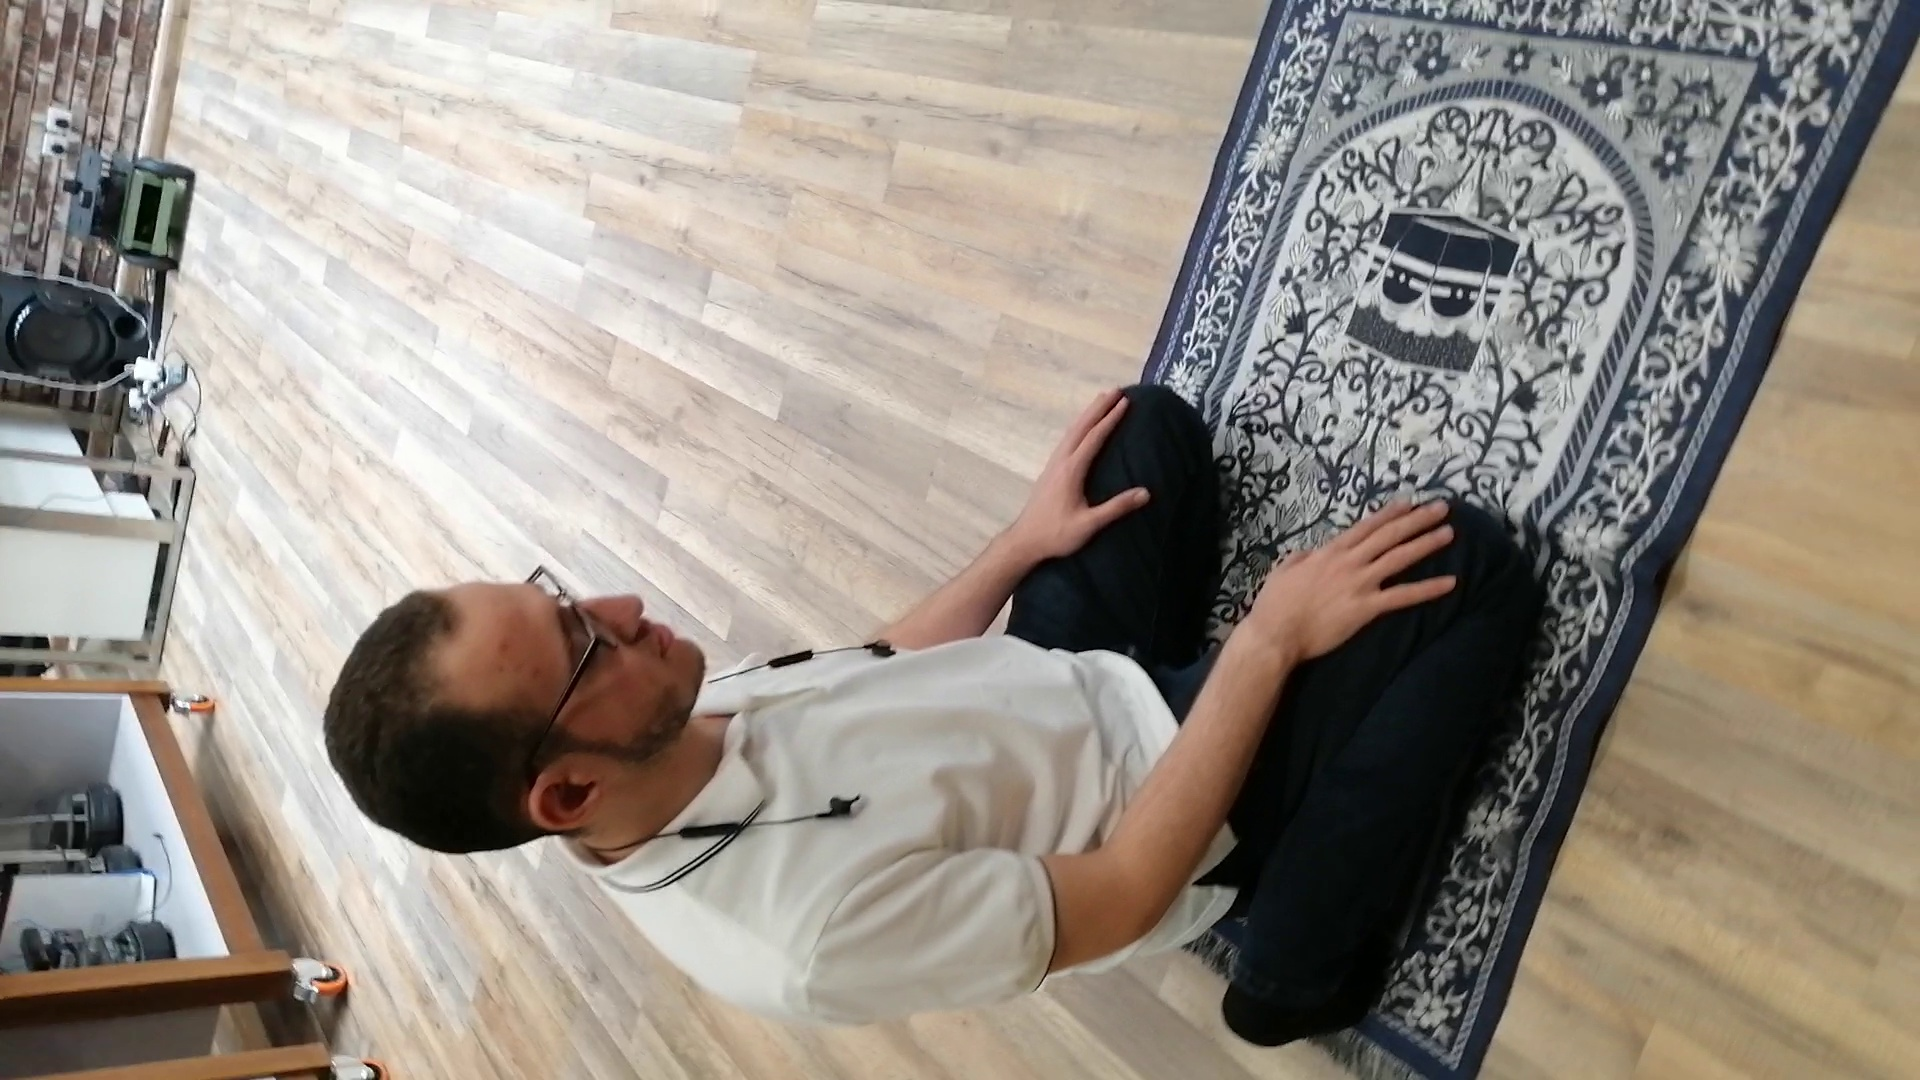sitting: (316, 375, 1538, 1054)
